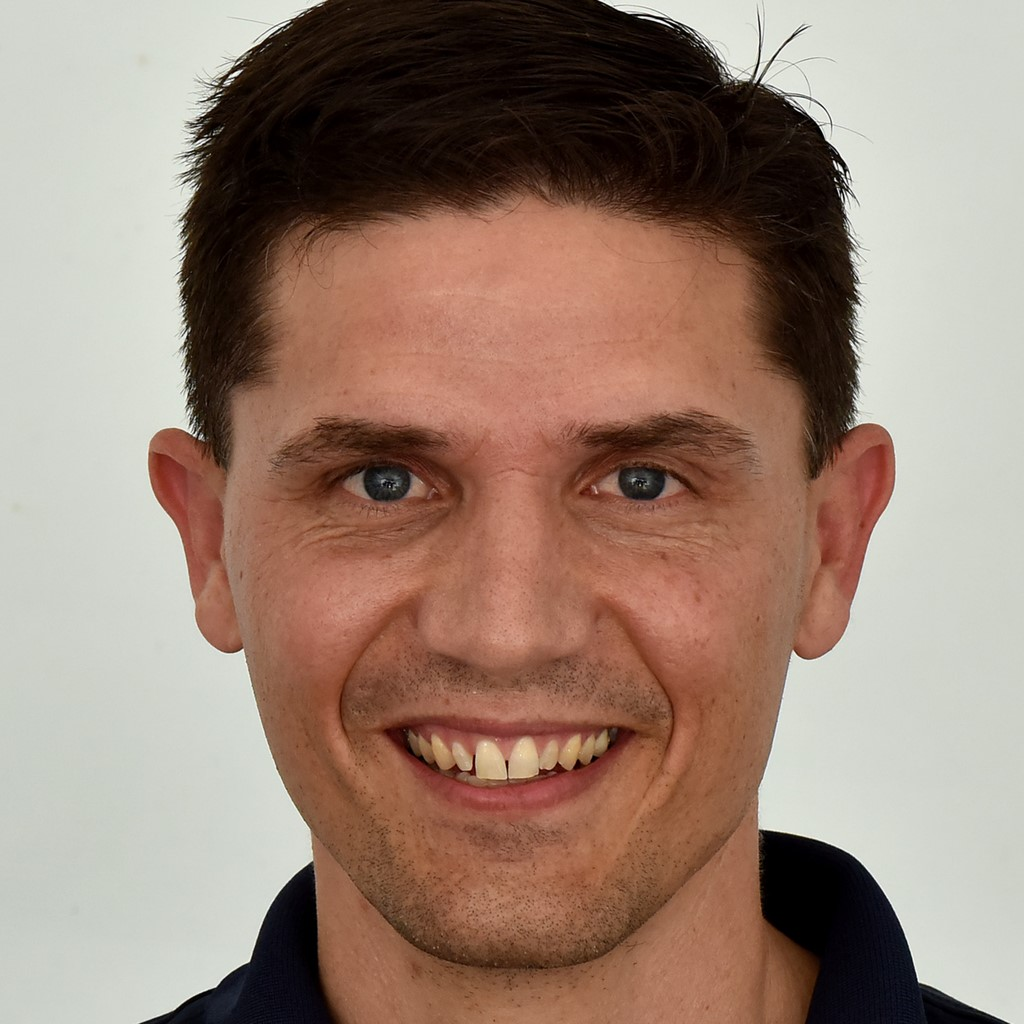sin_mascara: (222, 149, 840, 943)
